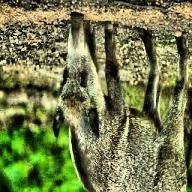boar: (52, 13, 191, 192)
